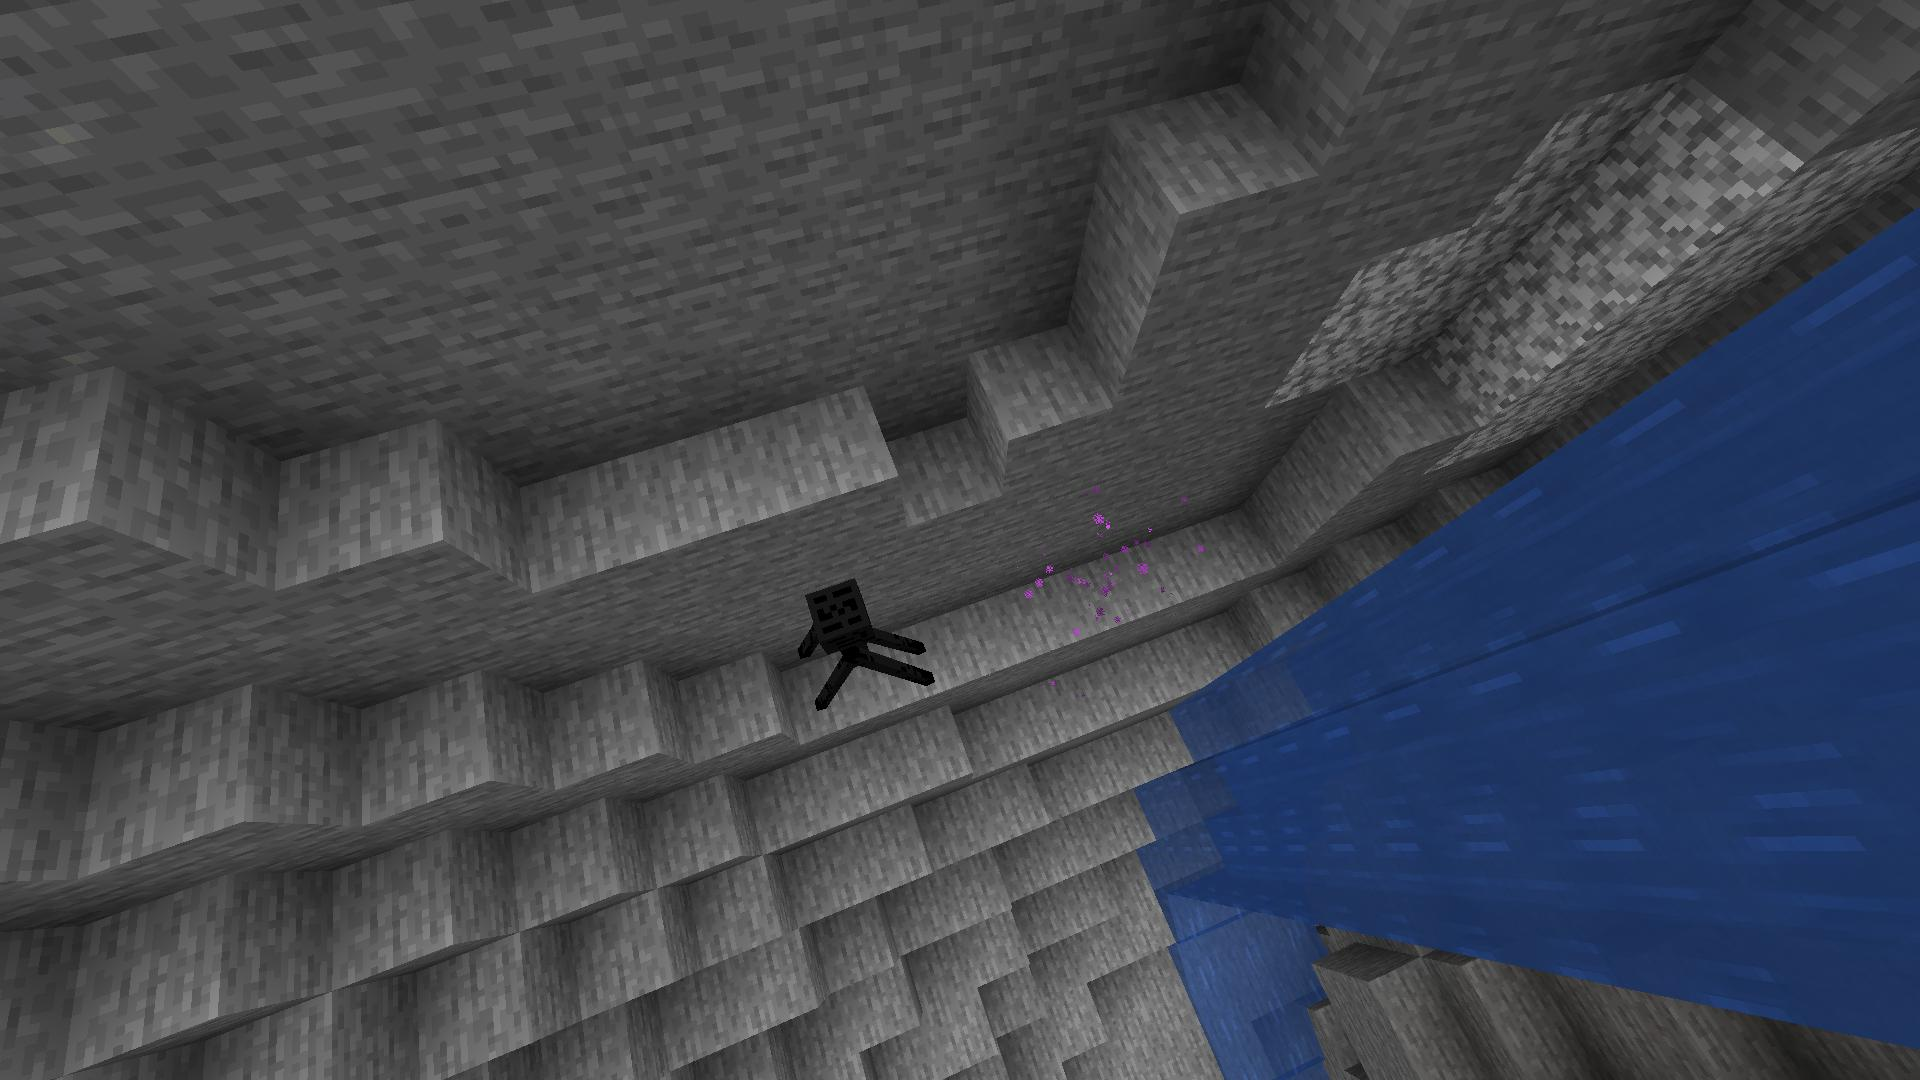enderman: (786, 568, 947, 735)
